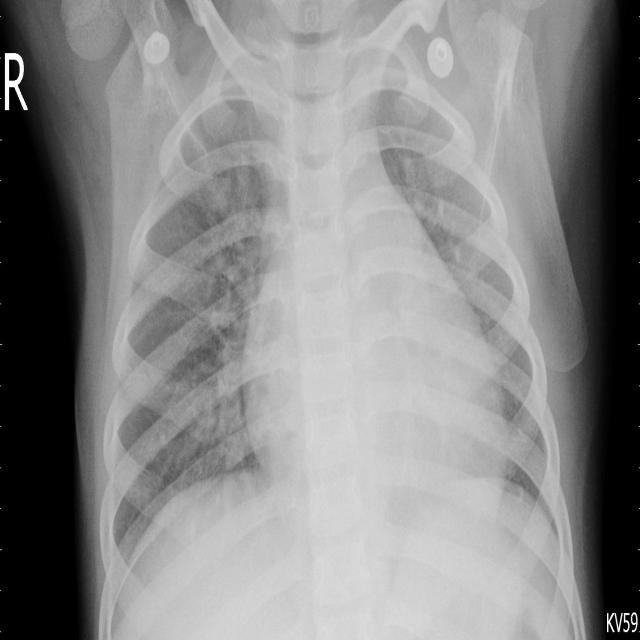low-pneumonia: (195, 104, 263, 304), (184, 320, 247, 475)
